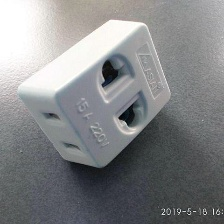three_eye_plug: (15, 18, 173, 170)
